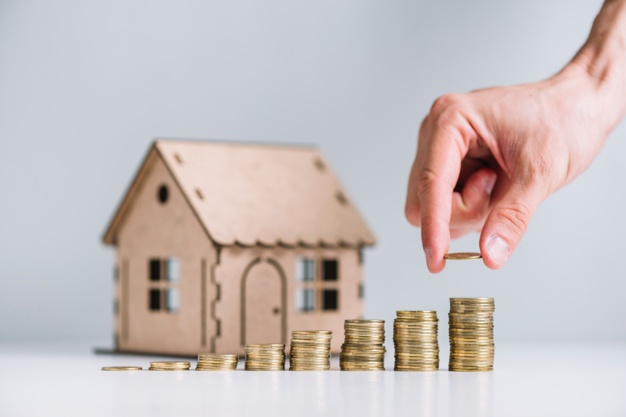finger: (416, 120, 465, 272), (407, 147, 489, 232)
